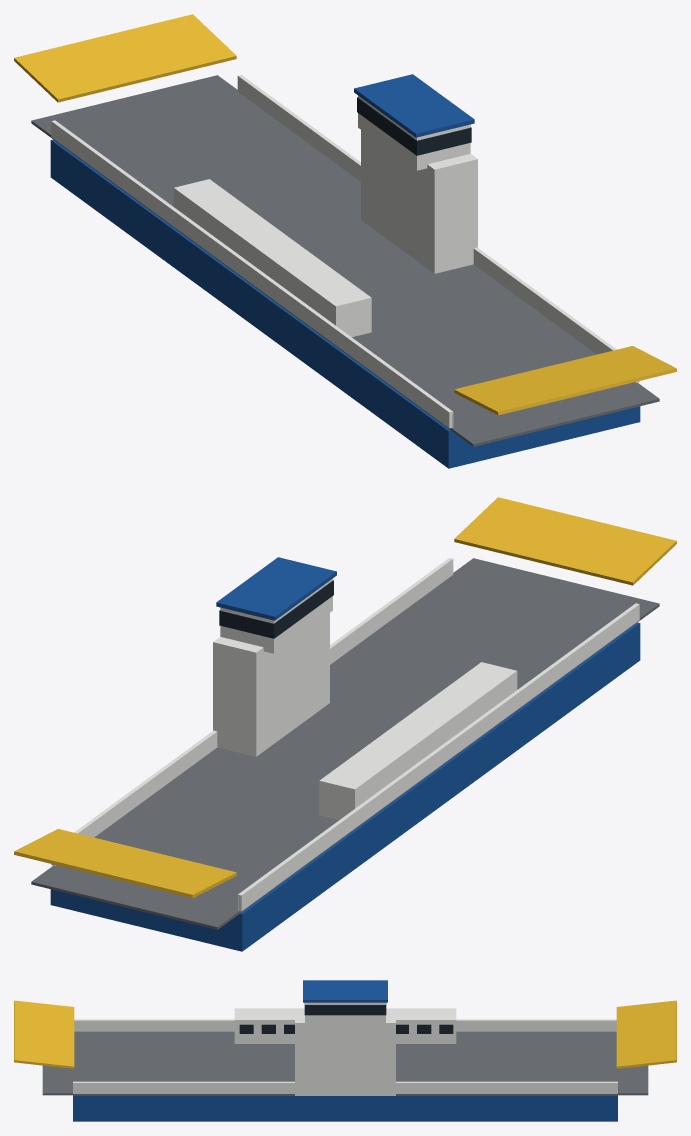
Rendered from car_ferry.glb.
The picture shows the model from 3 angles, top to bottom: view 1: azimuth 30°, elevation 25°; view 2: azimuth 150°, elevation 25°; view 3: azimuth 270°, elevation 25°; orthographic projection. The views are drawn at different scales.
Visible parts, largest first — view 1: ferry; view 2: ferry; view 3: ferry.
Part boxes in pixels (x1,y1,x2,y2): ferry: [14, 14, 676, 468]; ferry: [14, 497, 676, 951]; ferry: [14, 980, 676, 1121].
Size of the model in its own units: 15.2 by 13.4 by 65.71.
